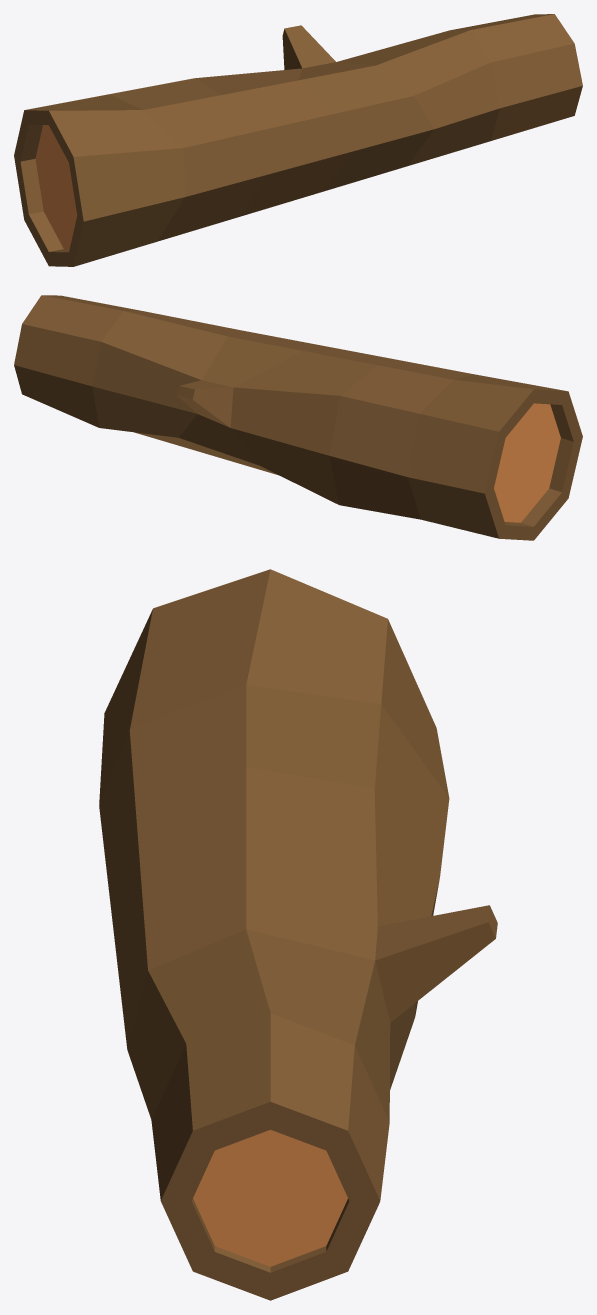
Rendered from Log.fbx.
3 views of the same model, one above another, from view 1: azimuth 30°, elevation 25°; view 2: azimuth 150°, elevation 25°; view 3: azimuth 270°, elevation 25° (orthographic). The views are drawn at different scales.
Visible parts, largest first — view 1: Cylinder; view 2: Cylinder; view 3: Cylinder.
Boxes of the visible parts, <box> form: Cylinder: <box>14,14,582,266</box>; Cylinder: <box>14,295,582,540</box>; Cylinder: <box>99,569,497,1300</box>.
Size of the model in its own units: 675 by 195 by 233.
